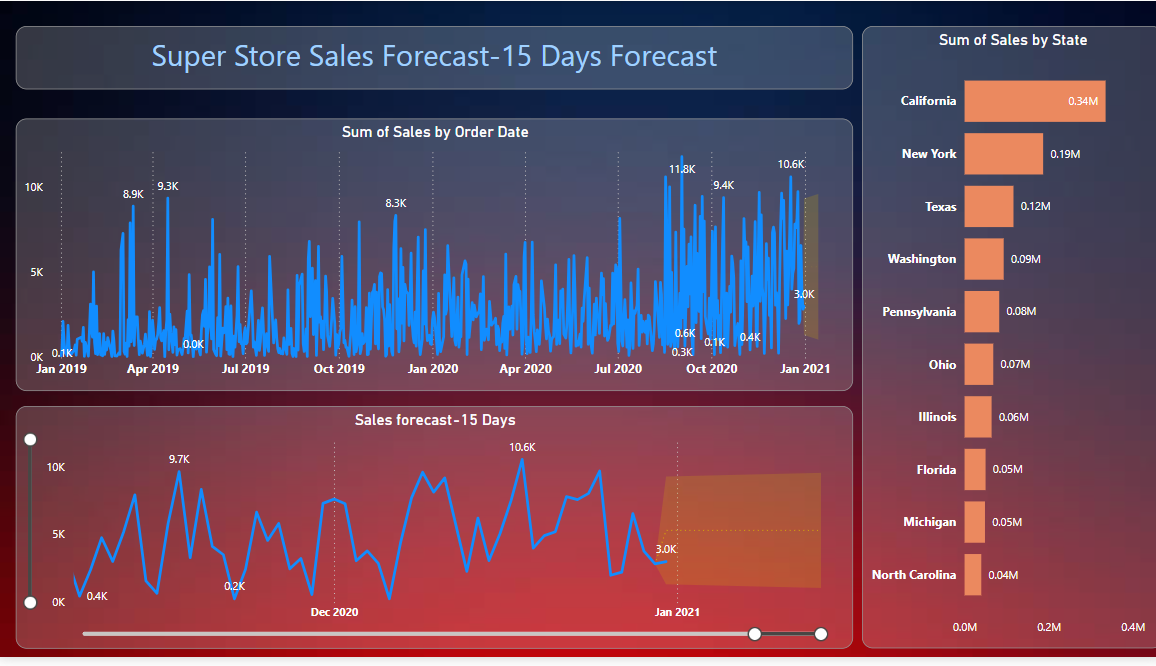

What the dashboard file says about the page in this screenshot:
{"tool":"powerbi","page":{"name":"Page 2","canvas":[1280,720],"ordinal":1},"visuals":[{"type":"lineChart","fields":{"Y":["Sum(SuperStore_Sales_Dataset.Sales)"],"Category":["SuperStore_Sales_Dataset.Order Date"]},"box":[20.6,129,919.4,299.1],"z":0},{"type":"lineChart","title":"Sales forecast-15 Days","fields":{"Y":["Sum(SuperStore_Sales_Dataset.Sales)"],"Category":["SuperStore_Sales_Dataset.Order Date"]},"box":[20.6,444.6,919.4,266.2],"z":1000},{"type":"textbox","box":[20.6,27.4,919.4,70],"z":2000},{"type":"clusteredBarChart","fields":{"Category":["SuperStore_Sales_Dataset.State"],"Y":["Sum(SuperStore_Sales_Dataset.Sales)"]},"box":[949.6,27.4,330.7,683.4],"z":3000}]}

Visuals, with their boxes in screenshot pixels (x1, y1, x2, y2), scaled from the page's 1280x720 canvas onto the 1156x666 screenshot:
lineChart - Sum(SuperStore_Sales_Dataset.Sales) x SuperStore_Sales_Dataset.Order Date: detection(19, 119, 849, 396)
"Sales forecast-15 Days" lineChart: detection(19, 411, 849, 657)
textbox: detection(19, 25, 849, 90)
clusteredBarChart - SuperStore_Sales_Dataset.State x Sum(SuperStore_Sales_Dataset.Sales): detection(858, 25, 1155, 657)
